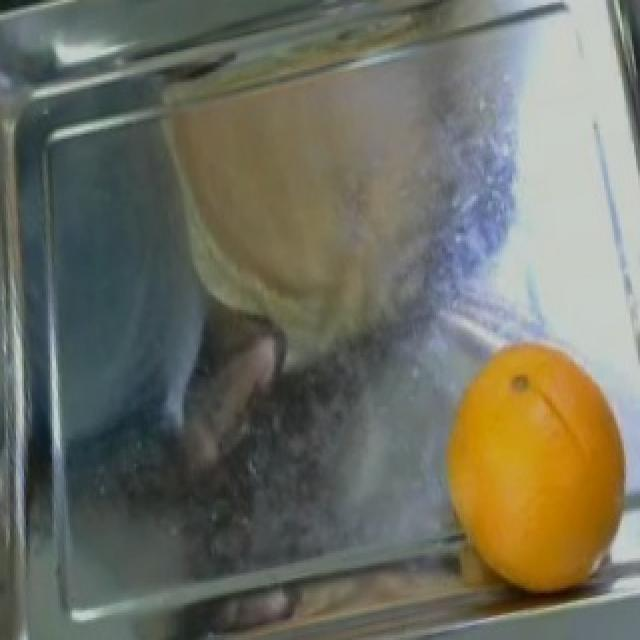Fruit: (436, 335, 640, 610)
